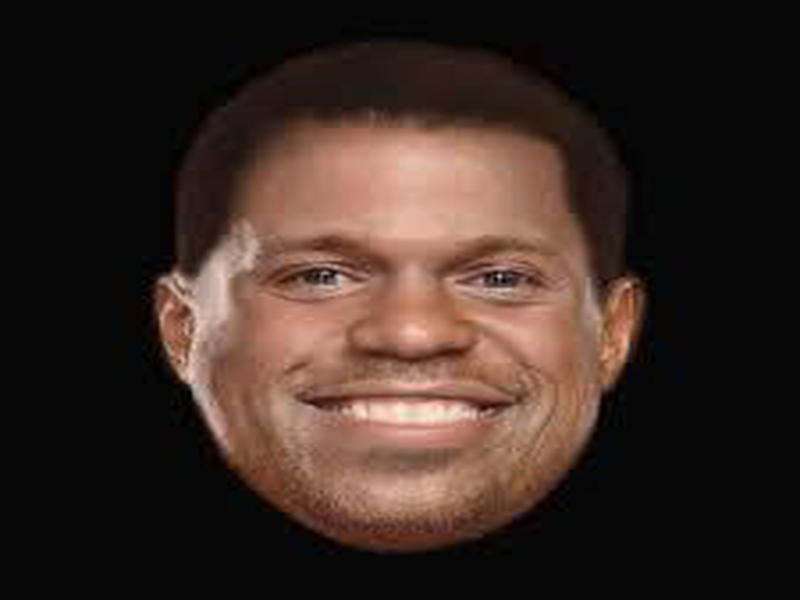without_mask: (210, 129, 601, 539)
